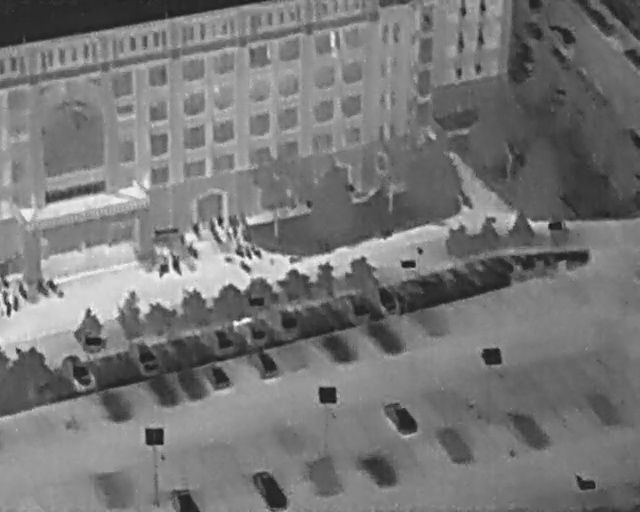Bicycle: (42, 275, 68, 303), (165, 248, 187, 279), (181, 238, 204, 265), (31, 276, 53, 302), (235, 256, 255, 278), (156, 258, 172, 282), (190, 220, 205, 243), (16, 281, 30, 303), (232, 241, 247, 261), (241, 242, 255, 262), (210, 231, 225, 248), (250, 245, 265, 262), (214, 214, 228, 231), (205, 216, 218, 234), (11, 294, 21, 312), (1, 291, 10, 307), (0, 275, 10, 289), (231, 225, 240, 240), (5, 303, 13, 319)
Car: (377, 391, 424, 444), (57, 346, 101, 398), (250, 464, 289, 511), (126, 334, 164, 381), (230, 309, 271, 351), (339, 287, 375, 328), (249, 343, 284, 385), (199, 356, 235, 396), (370, 279, 402, 318), (272, 305, 303, 336), (210, 324, 238, 358), (169, 487, 202, 510)
